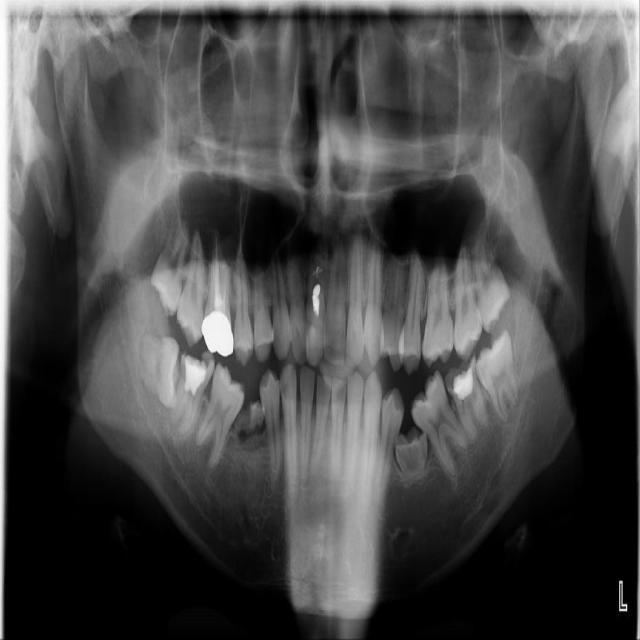3M ESPE Implant: (146, 198, 195, 320)
52: (198, 310, 238, 361)
73: (162, 365, 210, 439), (448, 371, 494, 444), (200, 230, 233, 331), (594, 548, 598, 554)
BioHorizons Implant: (452, 244, 485, 363)
BioLife Implant: (462, 217, 517, 338)
Biomet 3i Implant: (471, 331, 524, 427)
Blue Sky Bio Implant: (439, 352, 494, 448)
Caries: (176, 229, 207, 347)
Keystone Dental Implant: (137, 335, 182, 409)
